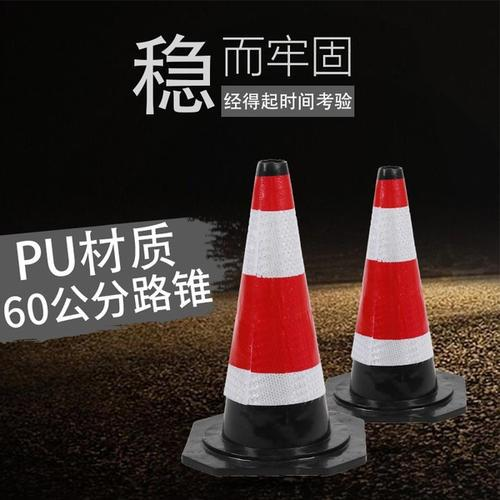cone_barrel: (199, 161, 343, 467), (336, 172, 455, 412)
